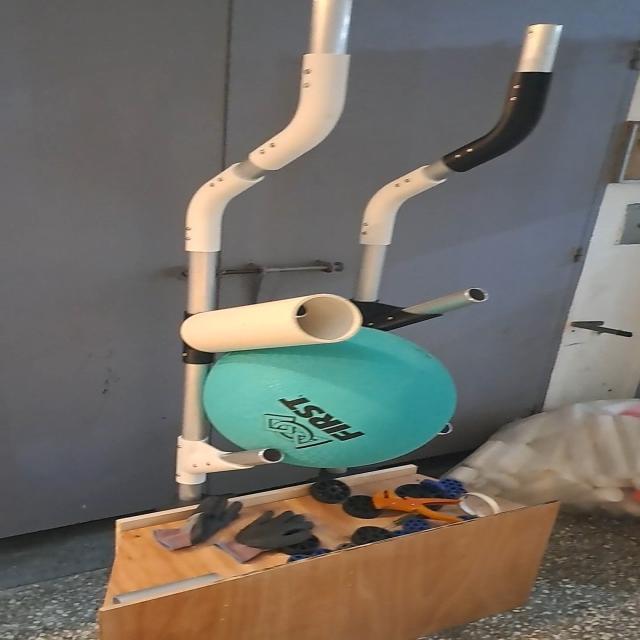ALGAE: (203, 329, 462, 472)
CORAL: (180, 295, 368, 355)
